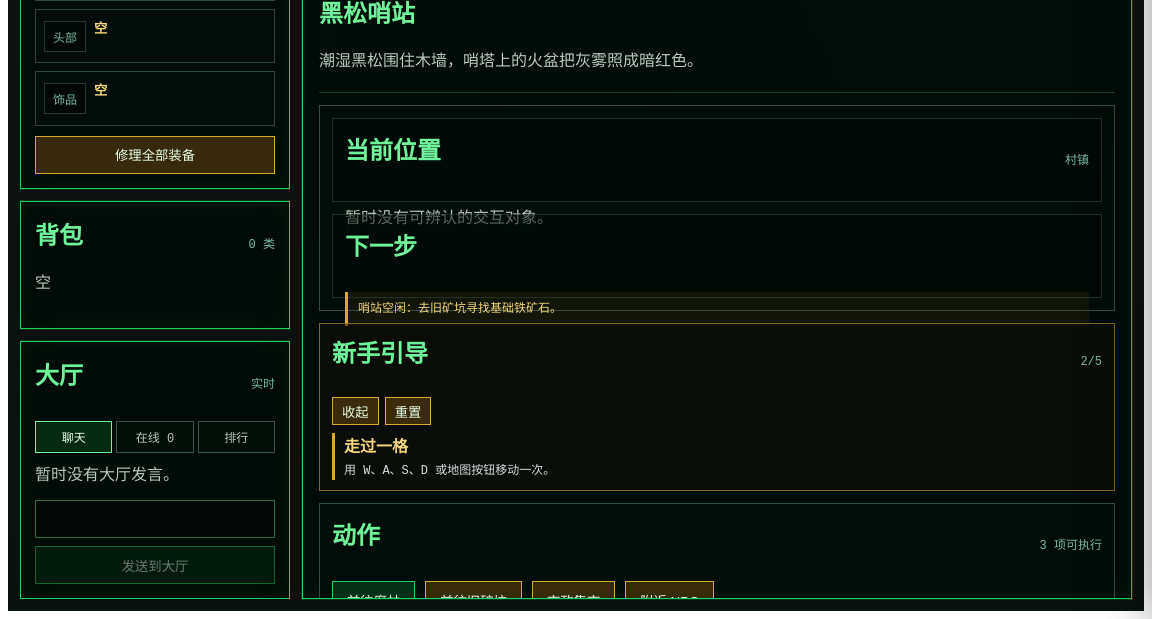
GameShell › sends lobby chat and immediately refreshes the shared sync stream
(page scrolled)
Type "矿洞有人吗？" into the field named "大厅发言" at (155, 519), box [35, 500, 275, 538]
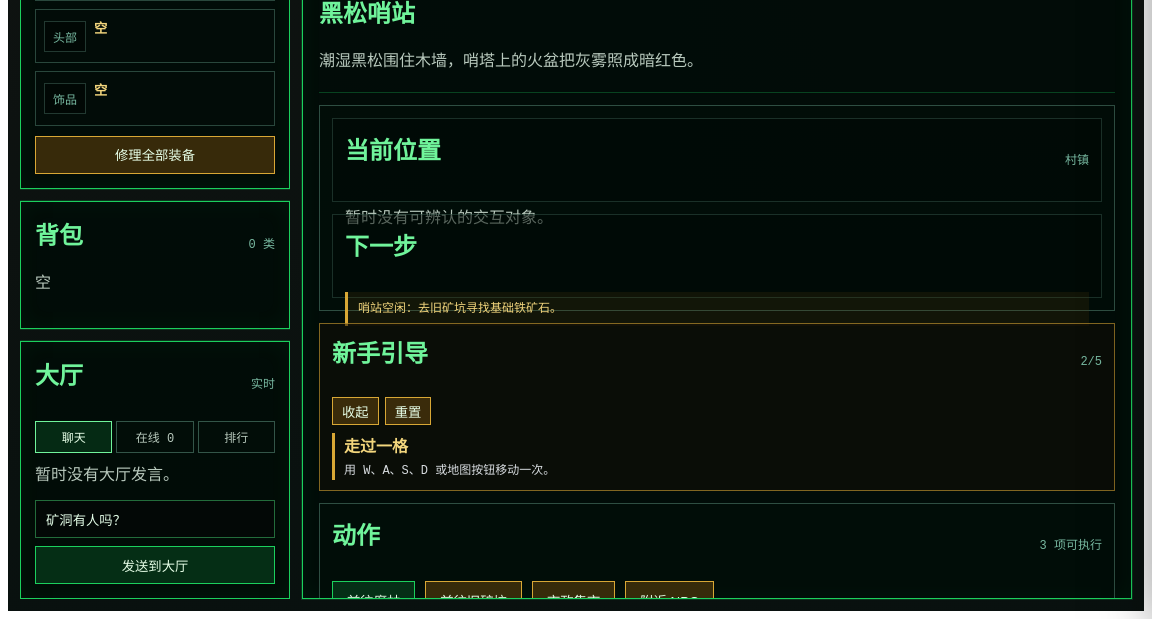
Click the button "发送到大厅" at (155, 565), box [35, 546, 275, 584]
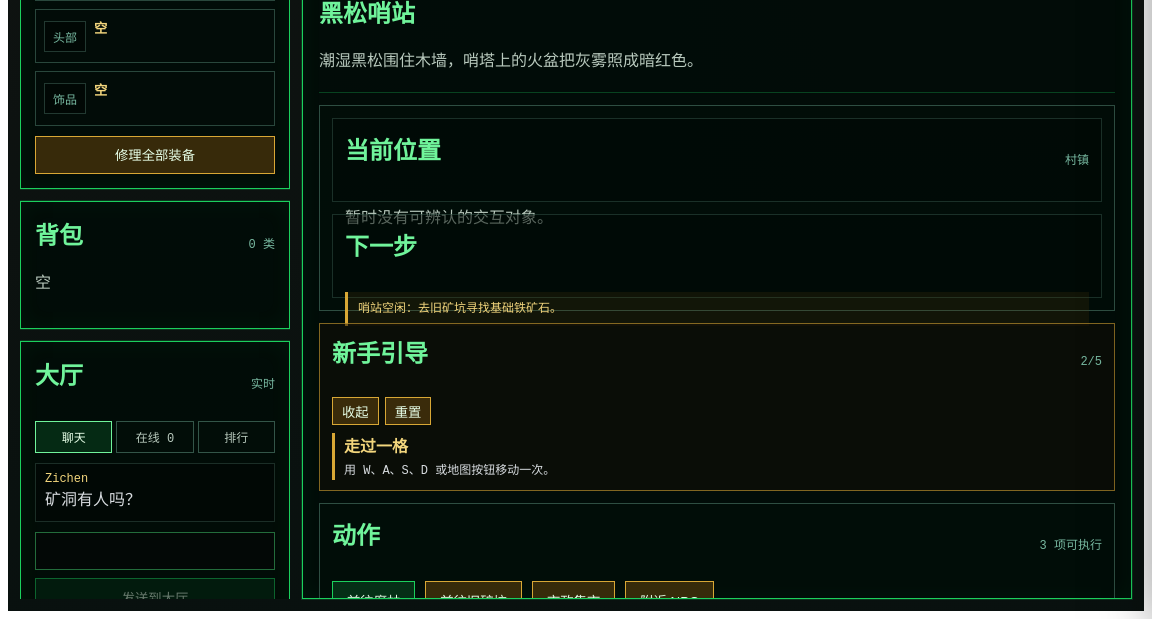
Result: the text "矿洞有人吗？" is shown at [45, 492, 141, 510]
Result: the field named "大厅发言" is empty at [35, 532, 275, 570]
